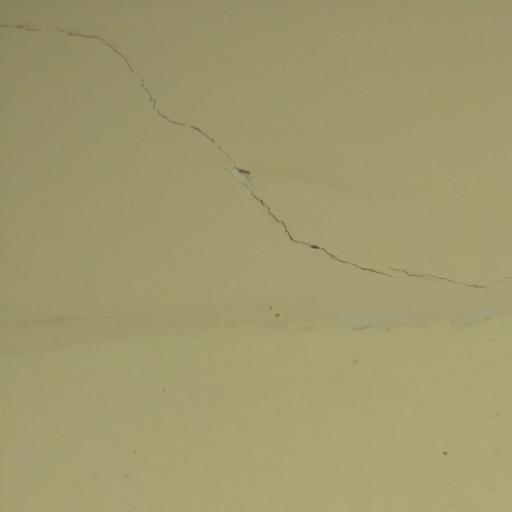minor_crack: (7, 24, 512, 296)
